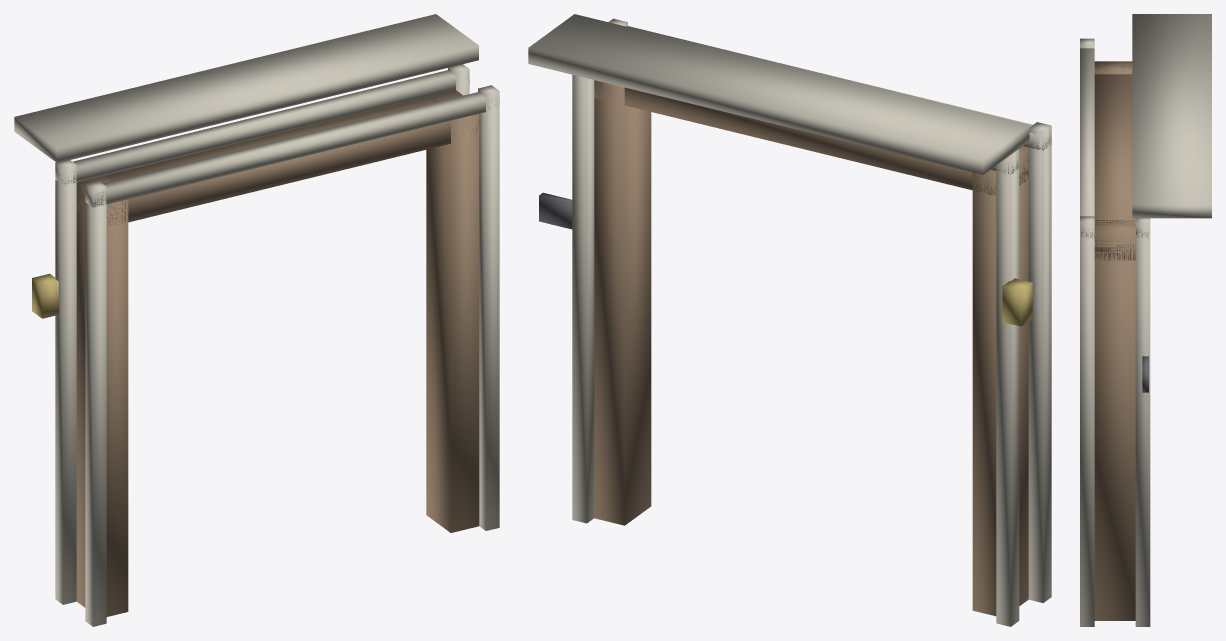
The model's file is doorway_motel_w182_h210_d24.glb.
3 renders of one model, left to right at view 1: azimuth 30°, elevation 25°; view 2: azimuth 150°, elevation 25°; view 3: azimuth 270°, elevation 25°, orthographic. The views are drawn at different scales.
Visible parts, largest first — view 1: world; view 2: world; view 3: world.
Boxes of the visible parts, bbox=[...] form: world: bbox=[14, 14, 499, 626]; world: bbox=[528, 14, 1051, 626]; world: bbox=[1080, 14, 1211, 626].
Bounding box in the file's own units: 2.57 × 2.48 × 0.6953.
